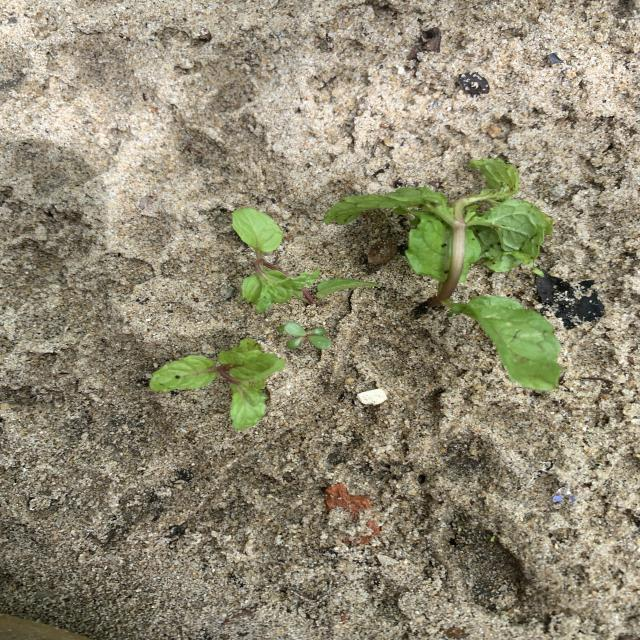crop: (328, 159, 560, 391), (232, 209, 376, 310), (148, 339, 283, 429)
weed: (278, 321, 331, 349)
